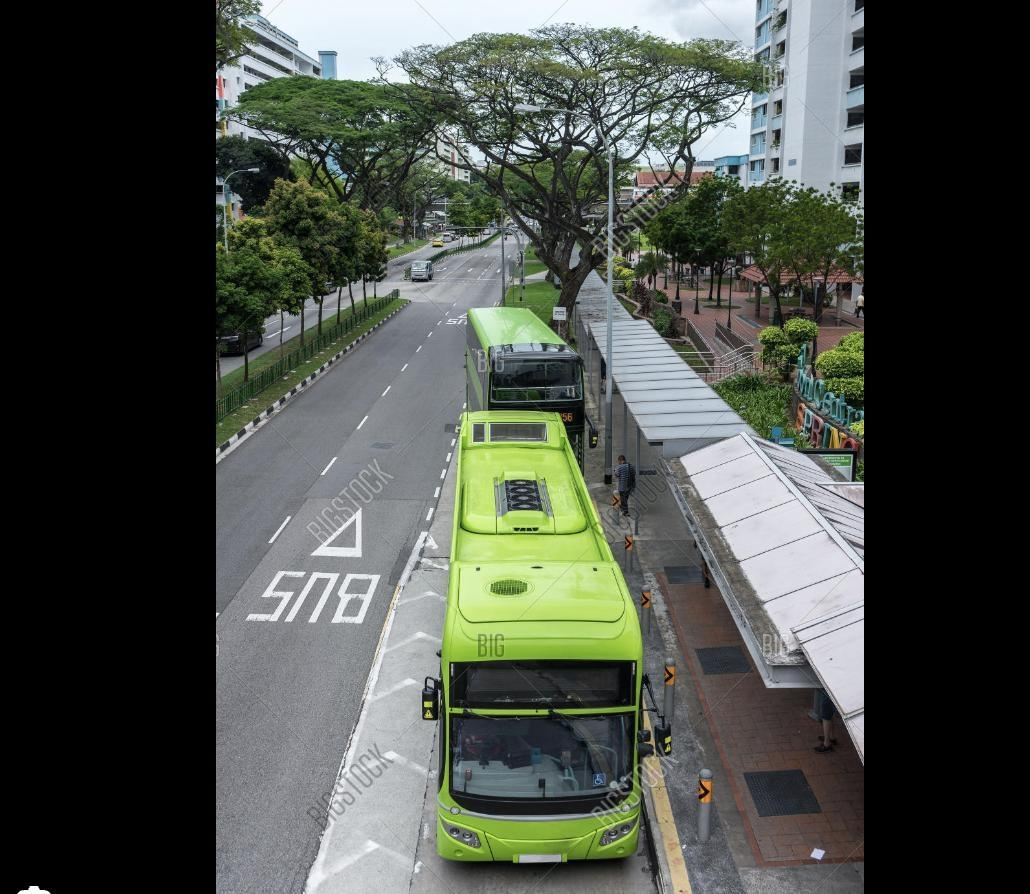Bus: (422, 403, 674, 872), (463, 298, 591, 438)
